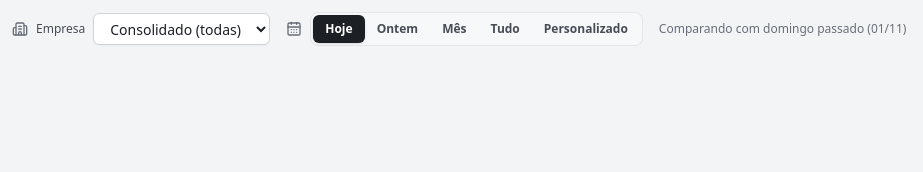
FiltroGlobalBar › Tudo não compara
This screenshot has width=923, height=172.
Click the button "Tudo".
click(505, 29)  # box 478,15 -> 532,43
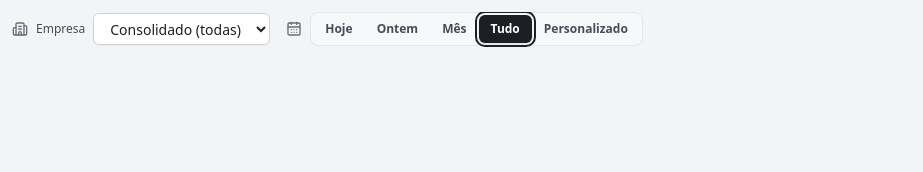
Expected: the text "Comparando com" is gone
